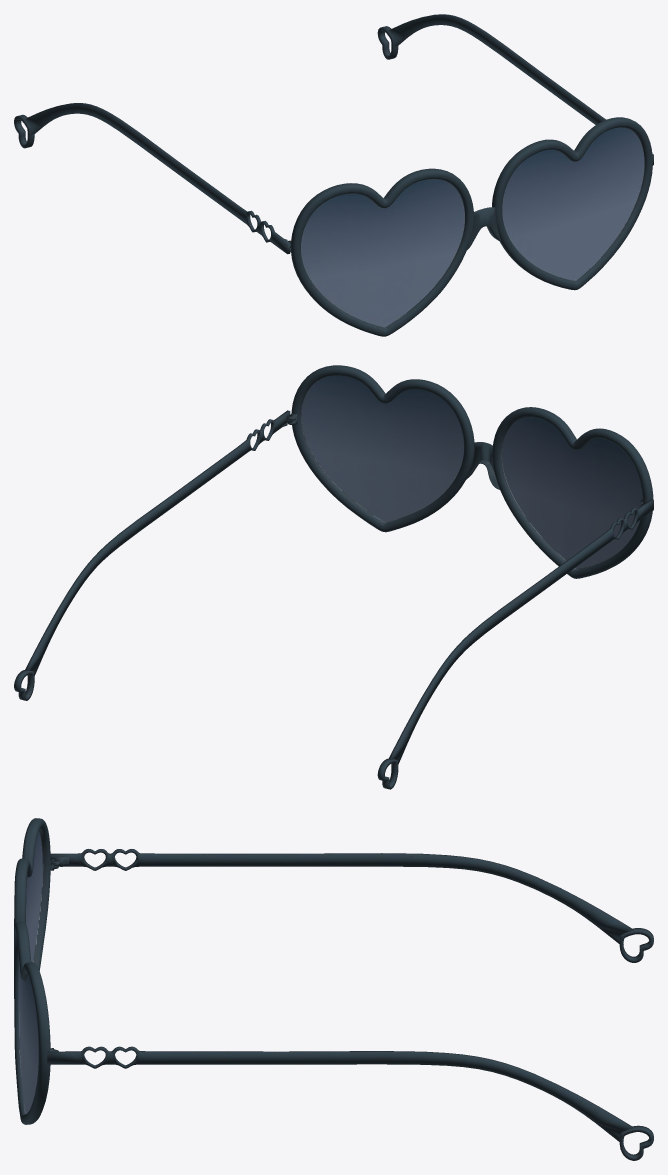
Rendered from glasses2.glb.
3 renders of one model, top to bottom at view 1: azimuth 30°, elevation 25°; view 2: azimuth 150°, elevation 25°; view 3: azimuth 270°, elevation 25°, orthographic. The views are drawn at different scales.
Parts seen in each view (by area): view 1: EarpieceLeft.001; view 2: EarpieceLeft.001; view 3: EarpieceLeft.001.
Part boxes in pixels (x1,y1,x2,y2): EarpieceLeft.001: (14,14,653,336); EarpieceLeft.001: (14,365,653,789); EarpieceLeft.001: (14,818,653,1160).
Size of the model in its own units: 1.16 by 0.4739 by 1.56.
Materials: 1 (1 with a texture image).
